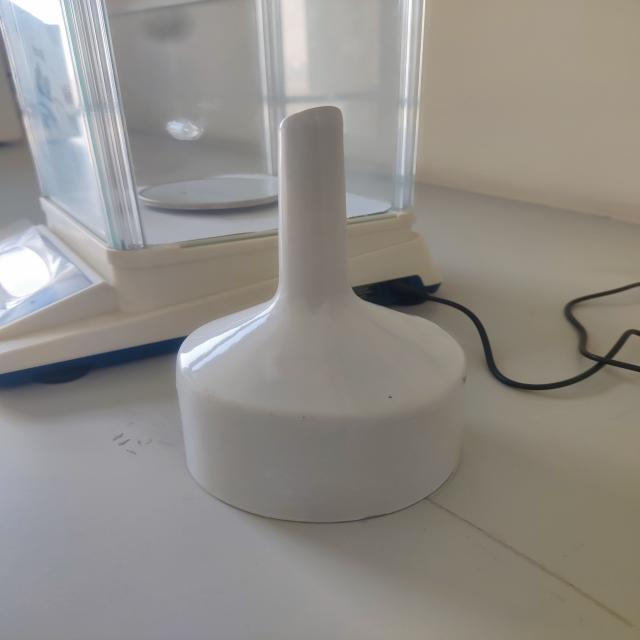Buchner_Funnel: (143, 94, 518, 548)
